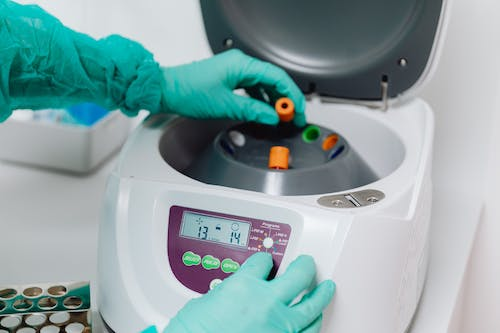blood: (275, 117, 296, 138)
